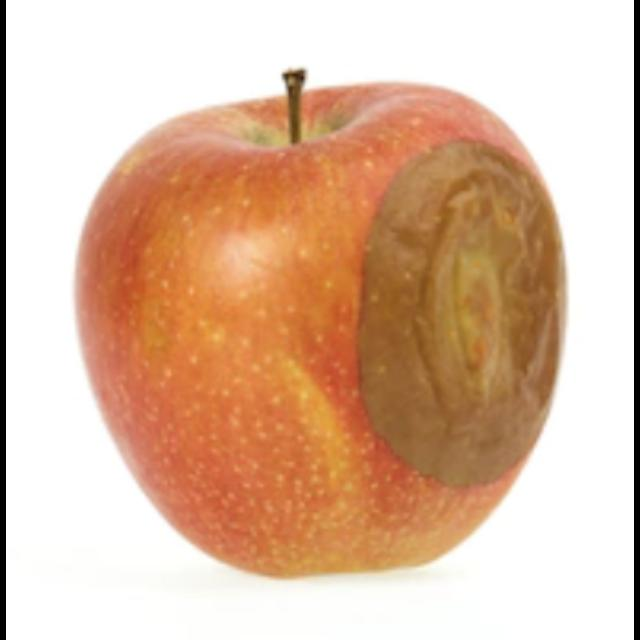Apel Tidak Segar: (27, 36, 601, 614)
